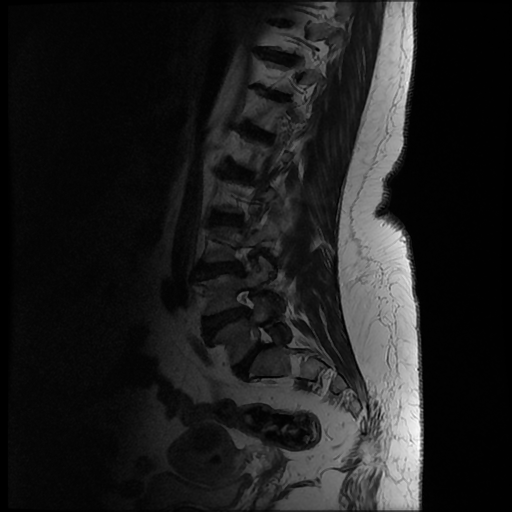RFS0: (242, 321, 287, 360), (229, 283, 272, 323)
